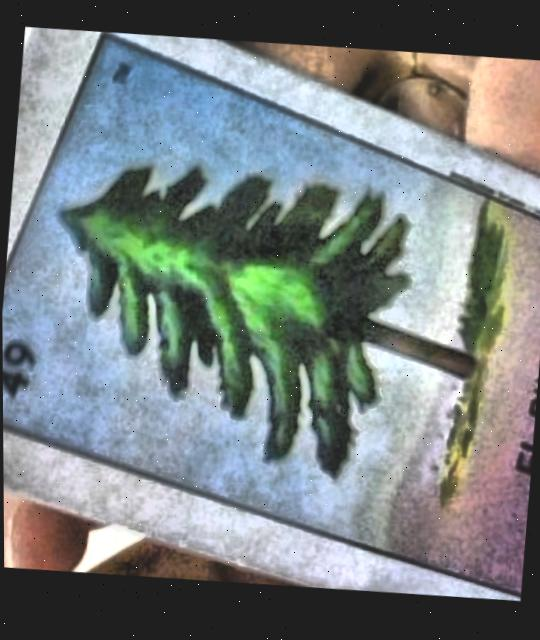El Pino: (2, 34, 540, 602)
